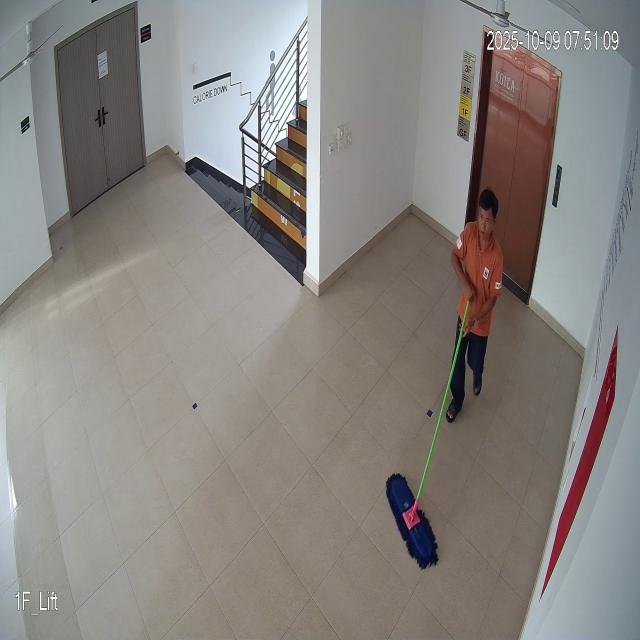face: (471, 186, 504, 254)
